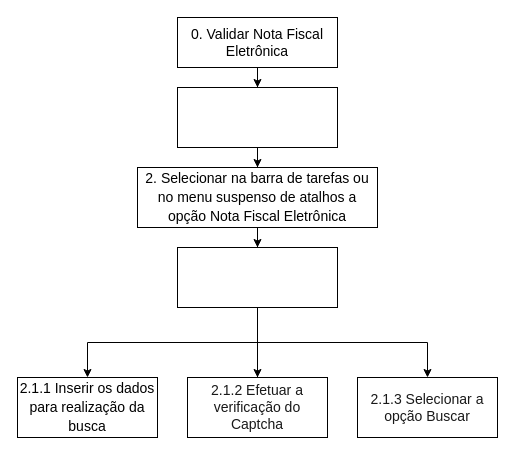
The diagram is 515 pixels wide and 455 high, and some of its shapes have lost their labels. The box of each missing label's shape, as (x1, y1, x2, y2) in pixels:
1. Acessar o site da Prefeitura de Itabuna: (176, 86, 338, 148)
2.1 Selecionar a opção Validar NFS-e: (176, 246, 338, 308)
